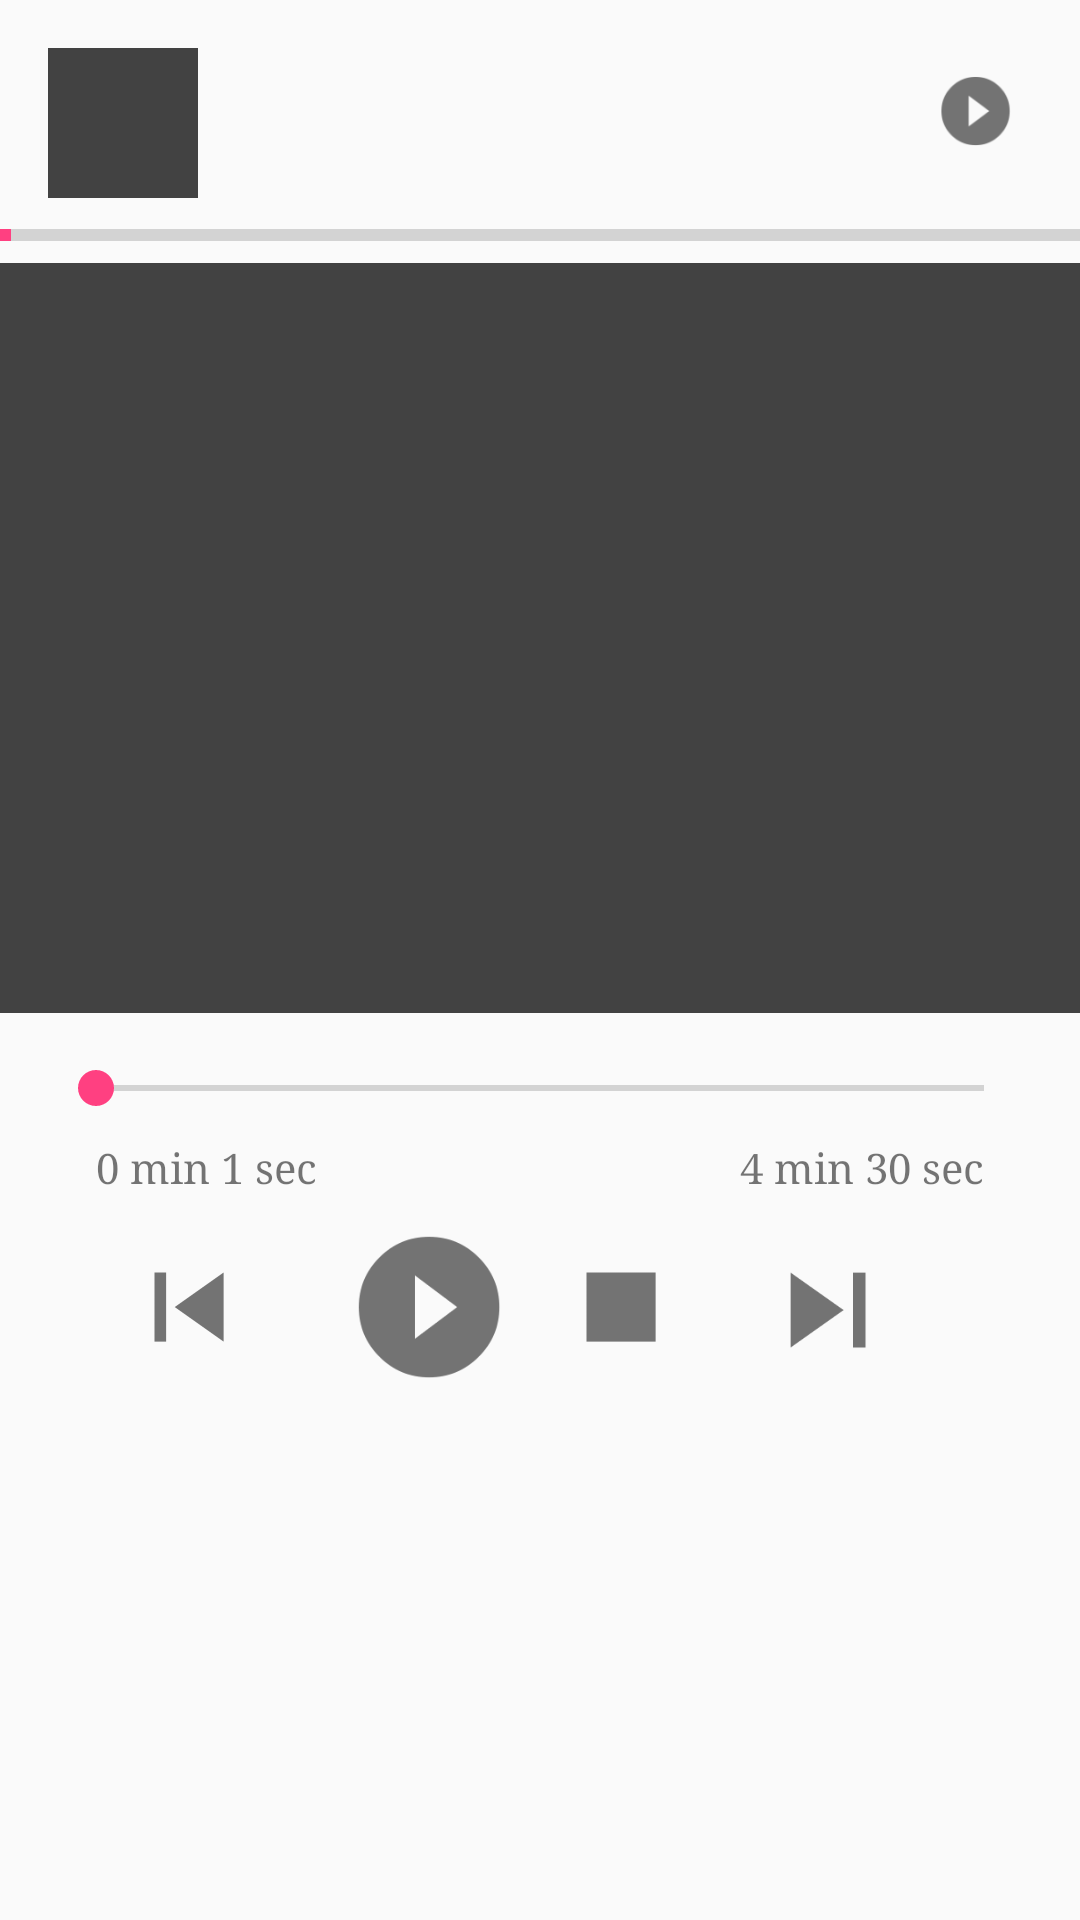

Locate icon controls on the screen. Image size 1080*1920, boxes as (x1, y1, x2, y2).
play circle: (941, 77, 1010, 145), (358, 1236, 500, 1378)
previous: (154, 1272, 224, 1342)
skip next: (790, 1272, 866, 1348)
stop: (586, 1272, 656, 1342)
